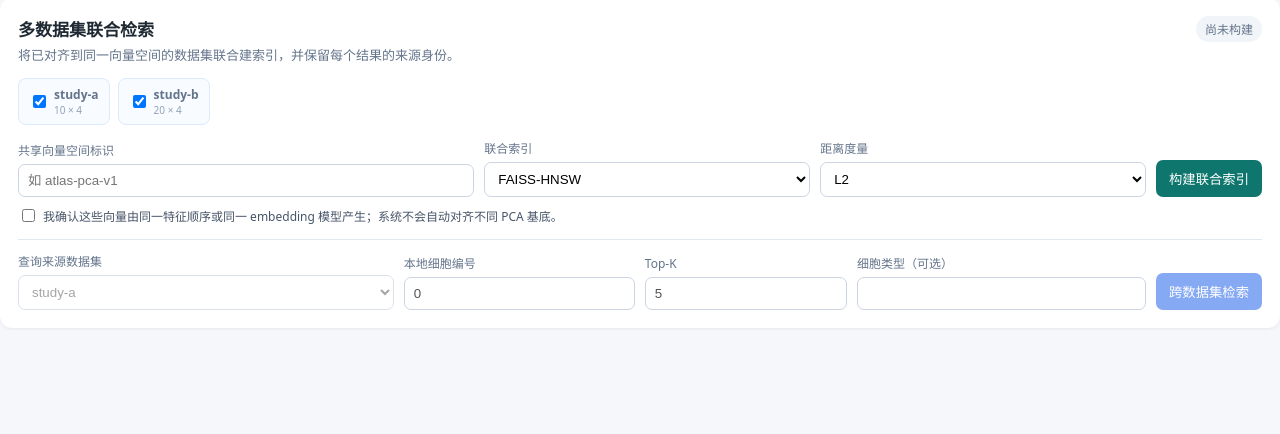
Test: FederatedSearch › builds a declared shared-space index and renders source provenance
Type "atlas-pca-v1" into the field labelled "共享向量空间标识" at [246, 180], box [18, 164, 474, 197]
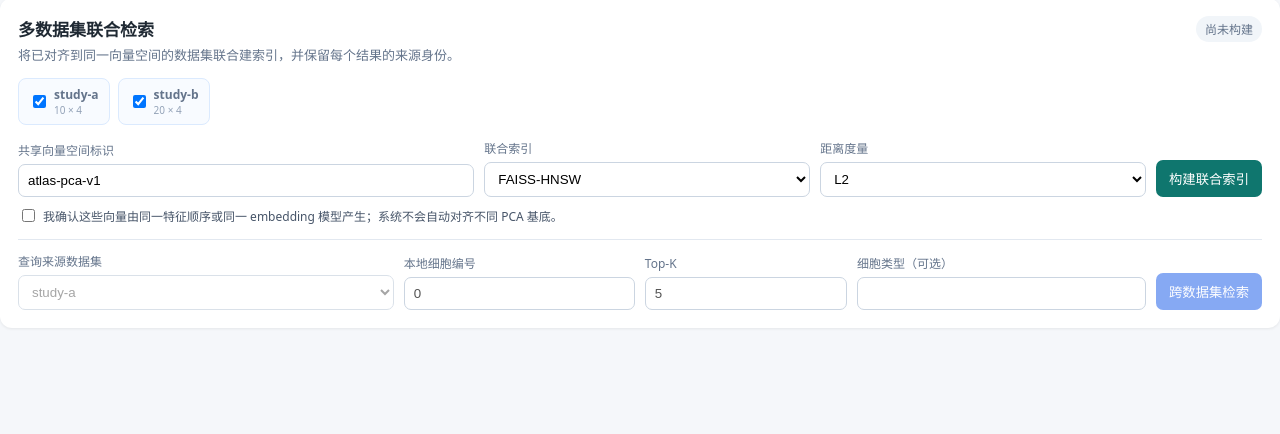
Click the checkbox labelled "我确认这些向量由同一特征顺序或同一 embedding 模型产生；系统不会自动对齐不同 PCA 基底。" at [28, 216], box [22, 209, 35, 222]
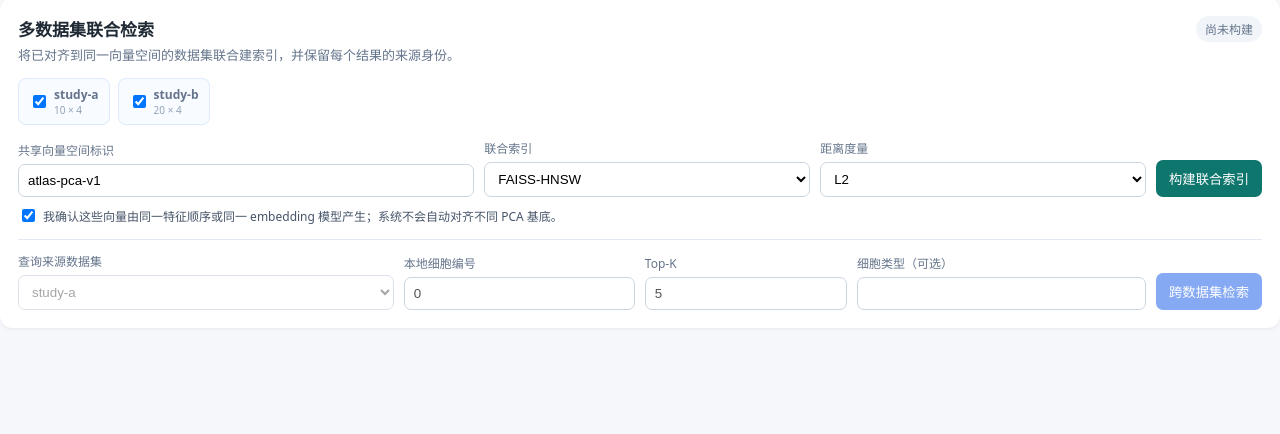
Click the button with class "build" at [1209, 178], box [1156, 160, 1262, 197]
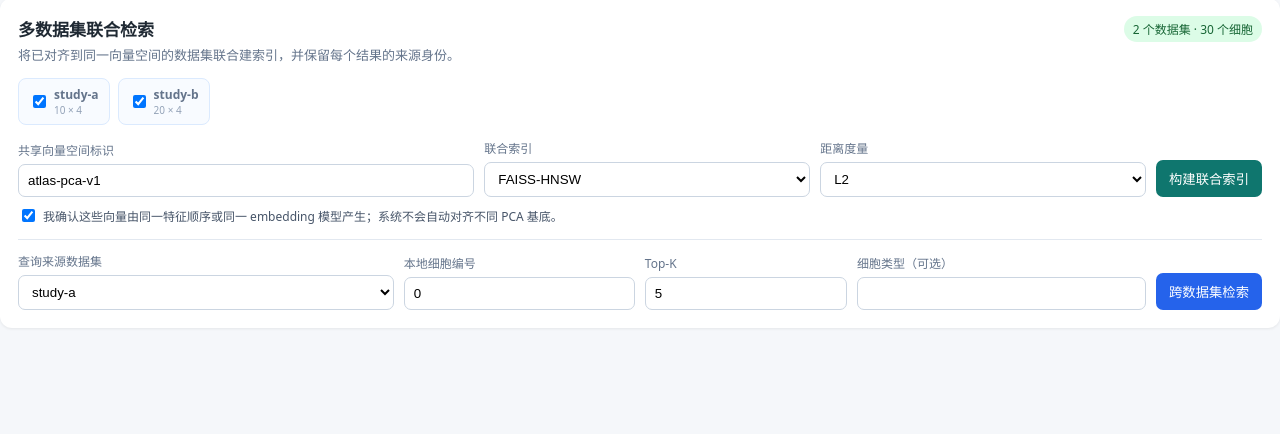
Click the button with class "search" at [1209, 292], box [1156, 273, 1262, 310]
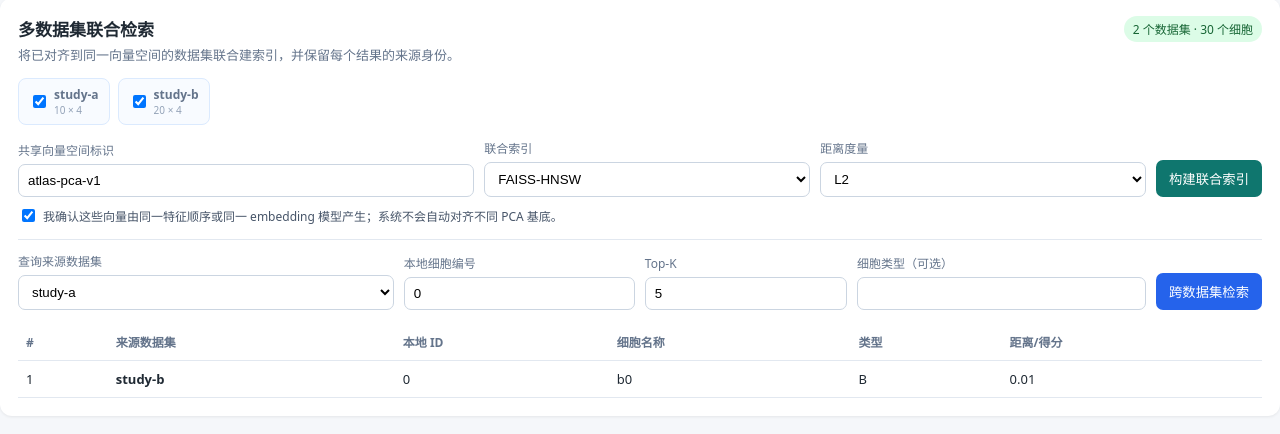
Expected: the text "study-b" is shown, [154, 86, 199, 103]
Expected: the text "b0" is shown, [609, 361, 850, 398]
